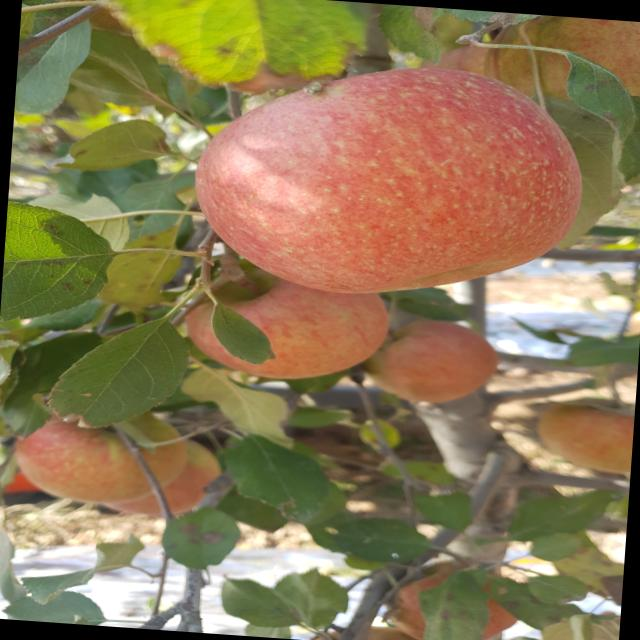fresh: (170, 48, 599, 316)
